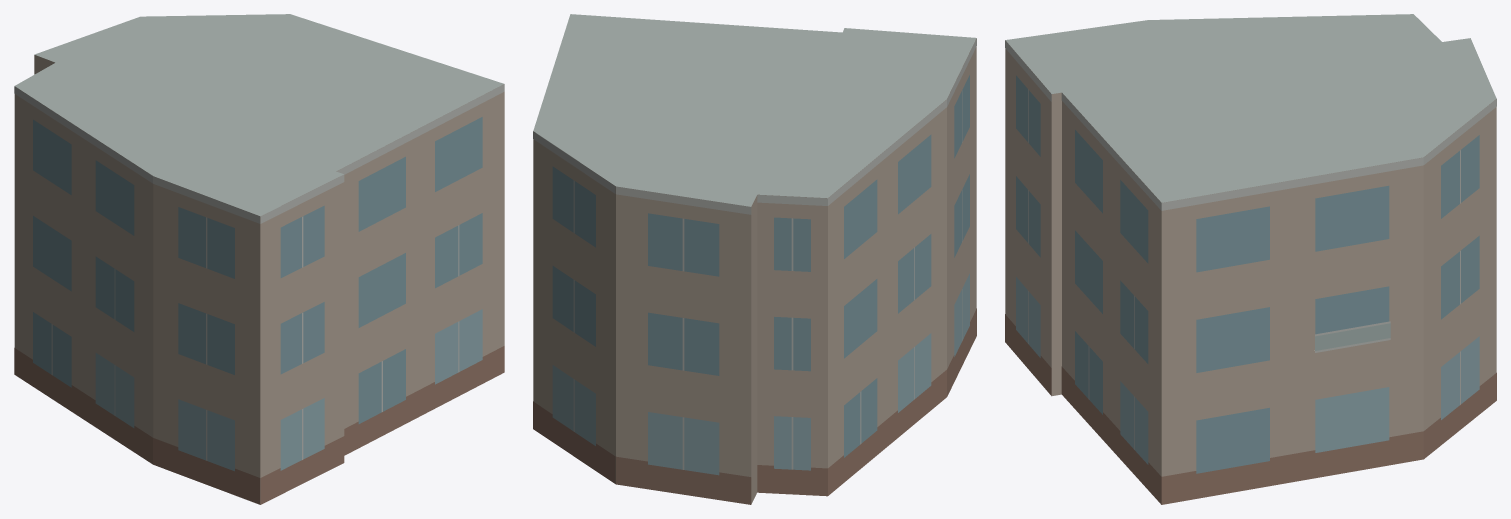
File: survey-upis-32839522.glb
3 renders of one model, left to right at view 1: azimuth 30°, elevation 25°; view 2: azimuth 150°, elevation 25°; view 3: azimuth 270°, elevation 25°, orthographic. The views are drawn at different scales.
Parts seen in each view (by area): view 1: survey-upis-32839522.tmp; view 2: survey-upis-32839522.tmp; view 3: survey-upis-32839522.tmp.
Part boxes in pixels (x1,y1,x2,y2): survey-upis-32839522.tmp: (14,14,504,504); survey-upis-32839522.tmp: (533,14,976,504); survey-upis-32839522.tmp: (1005,14,1496,504).
Bounding box in the file's own units: 12.28 × 9.15 × 13.5.
